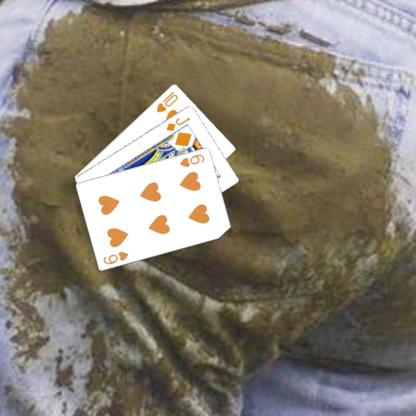10H: (154, 88, 179, 113)
6H: (177, 151, 206, 168), (101, 249, 130, 266)
JD: (164, 114, 192, 133)
